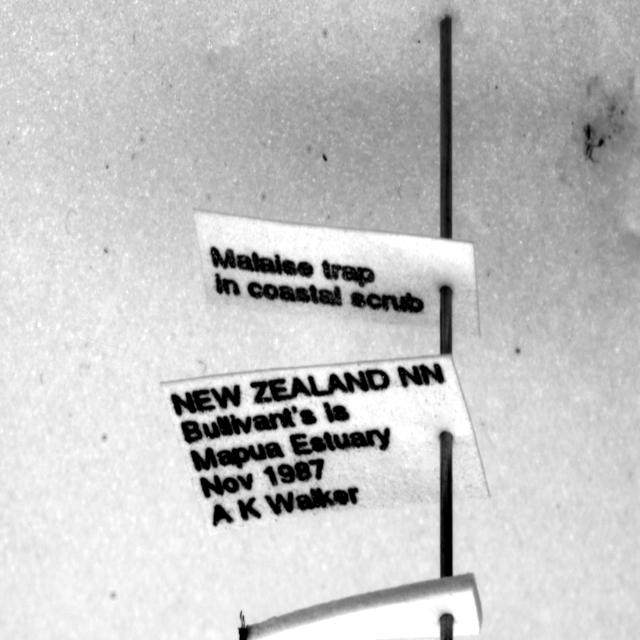typed_label: (161, 354, 489, 532), (194, 210, 479, 336)
